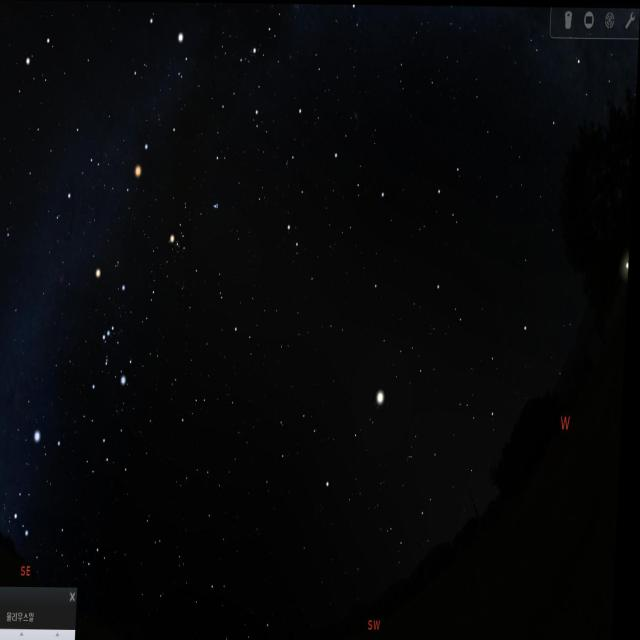canis_major: (13, 419, 69, 539)
gemini: (18, 30, 117, 183)
orion: (85, 255, 143, 403)
pleiades: (212, 196, 227, 221)
taurus: (162, 177, 232, 280)
